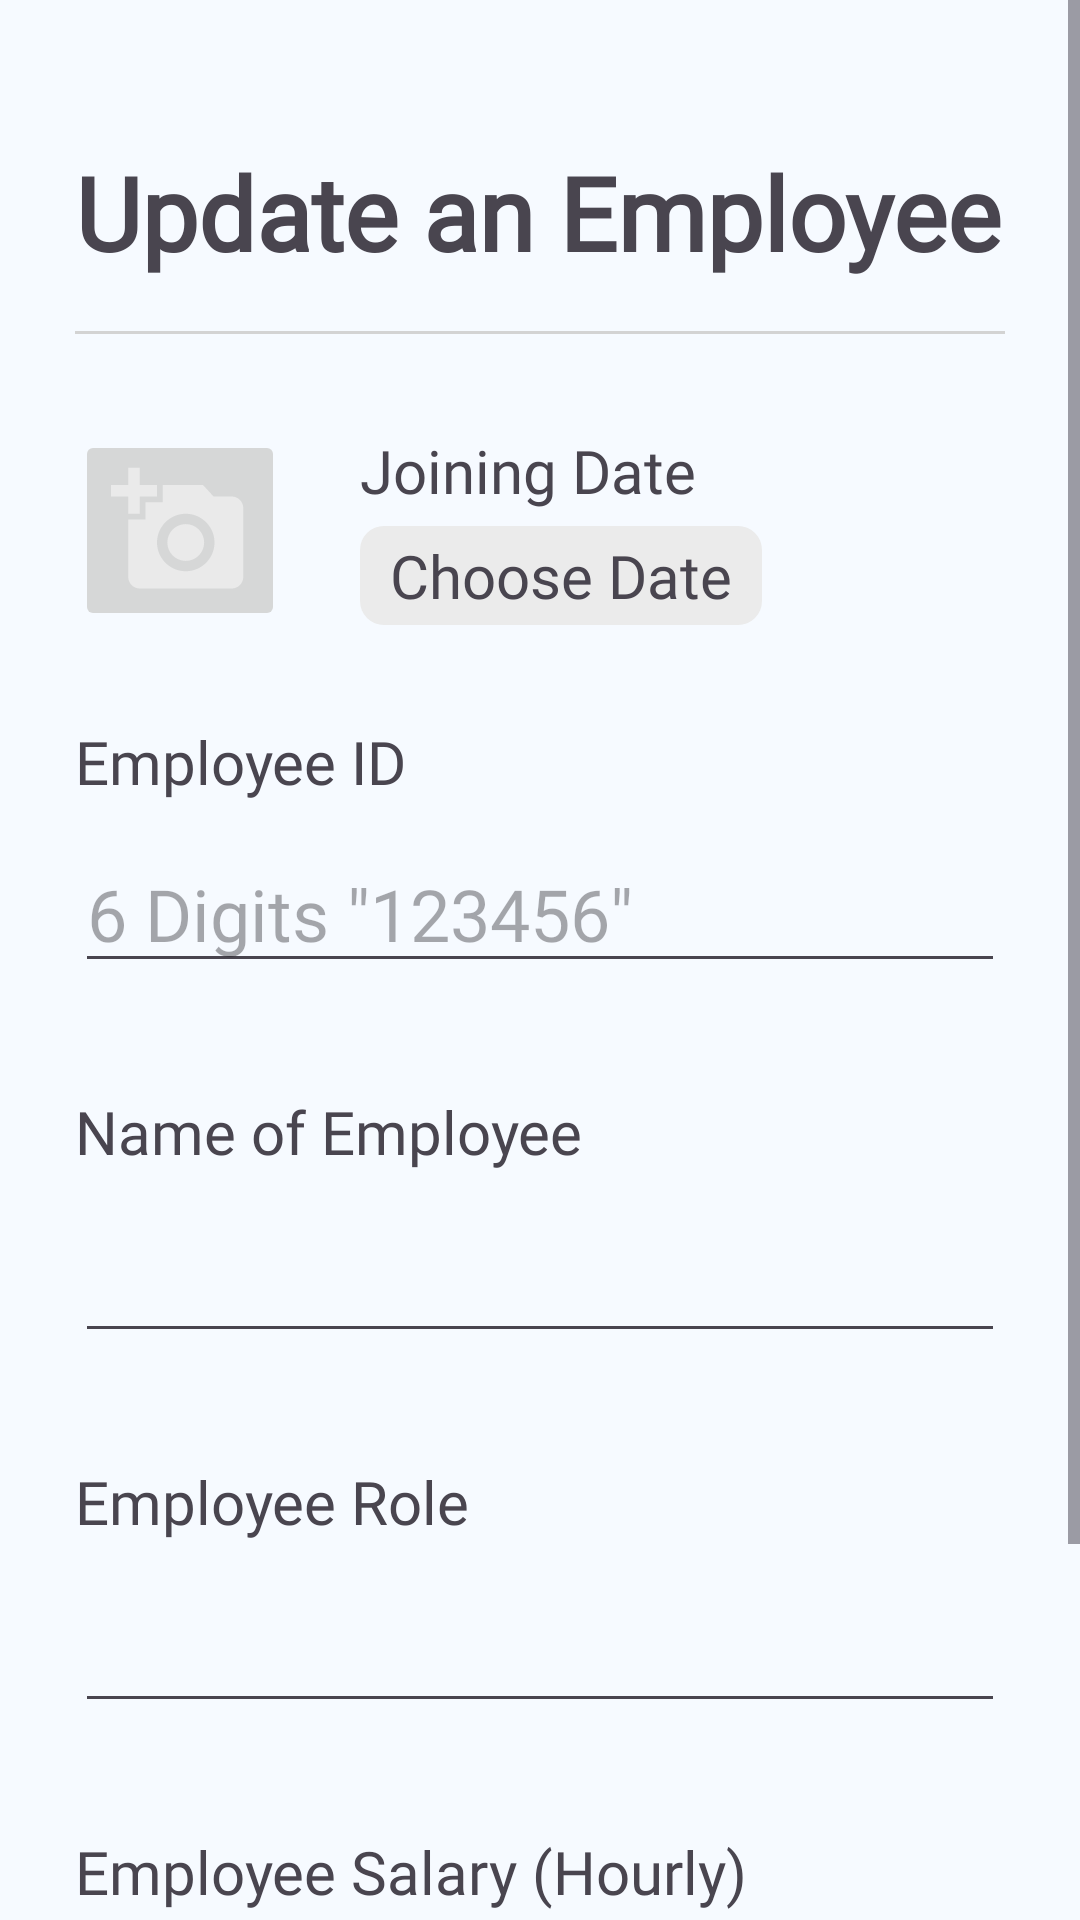

Where icons sit on this 1080x1920 app screen, as (x1, y1, x2, y2):
add: (87, 448, 273, 613)
